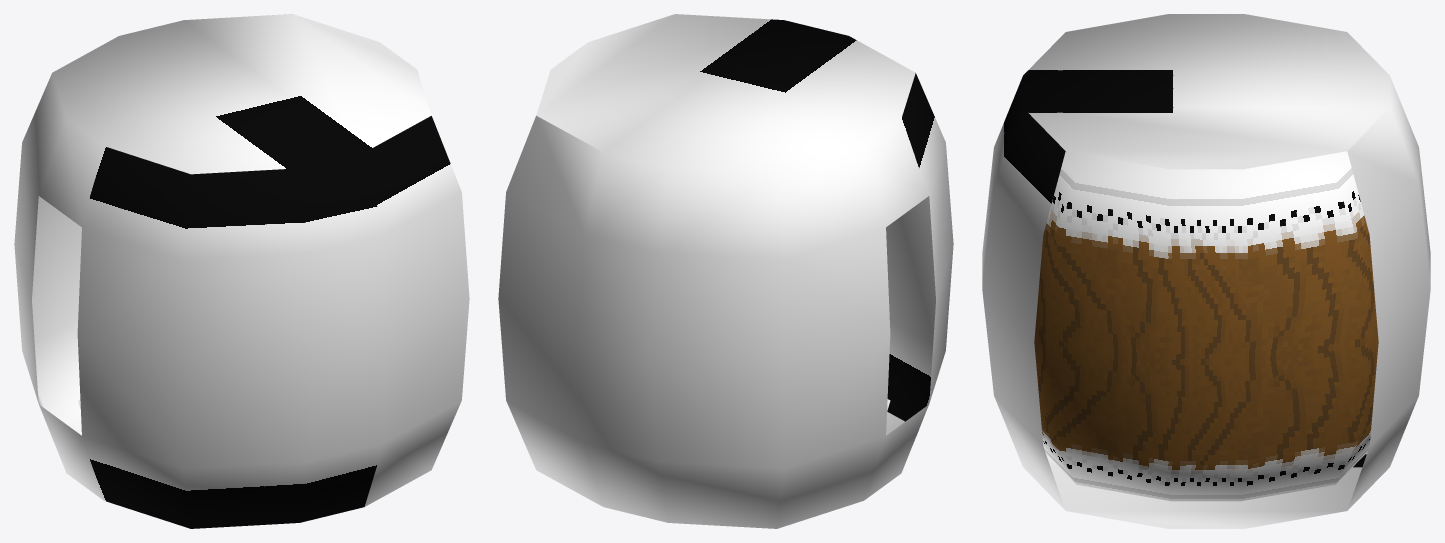
Rendered from drum.obj.
3 renders of one model, left to right at view 1: azimuth 30°, elevation 25°; view 2: azimuth 150°, elevation 25°; view 3: azimuth 270°, elevation 25°, orthographic.
Parts seen in each view (by area): view 1: drum; view 2: drum; view 3: drum.
Boxes of the visible parts, <box> form: drum: <box>14,14,469,528</box>; drum: <box>498,14,953,528</box>; drum: <box>982,14,1430,528</box>.
Size of the model in its own units: 89.94 by 82.56 by 93.28.
1 material, 1 textured.
